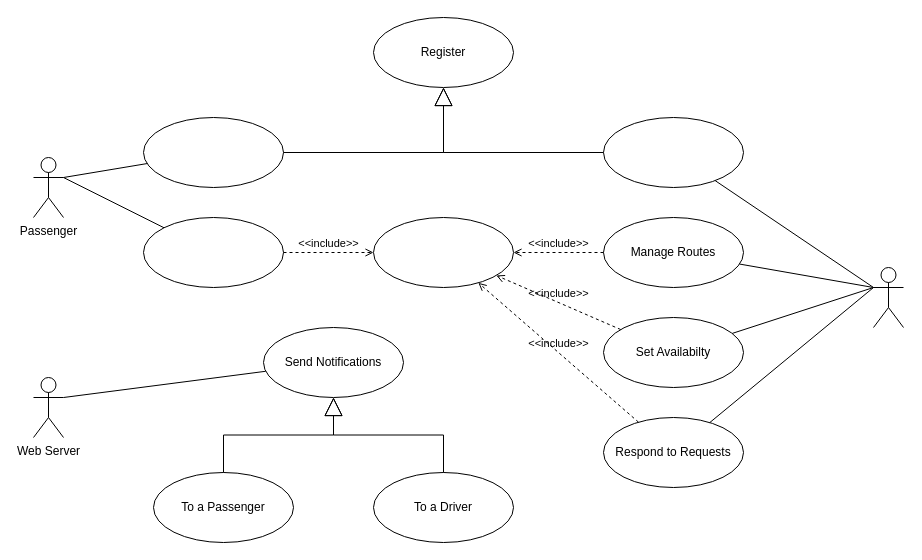
Some shapes in this 922 by 560 pixel diagram are drawn without their labels. The shapes that lost their labels are listed below. From the top down, each one's centre as x and y in pixels, then its label:
At (x=213, y=152): "As a Passenger".
At (x=673, y=152): "As a Driver".
At (x=213, y=252): "Book a Seat".
At (x=443, y=252): "Login in".
At (x=888, y=297): "Driver".
